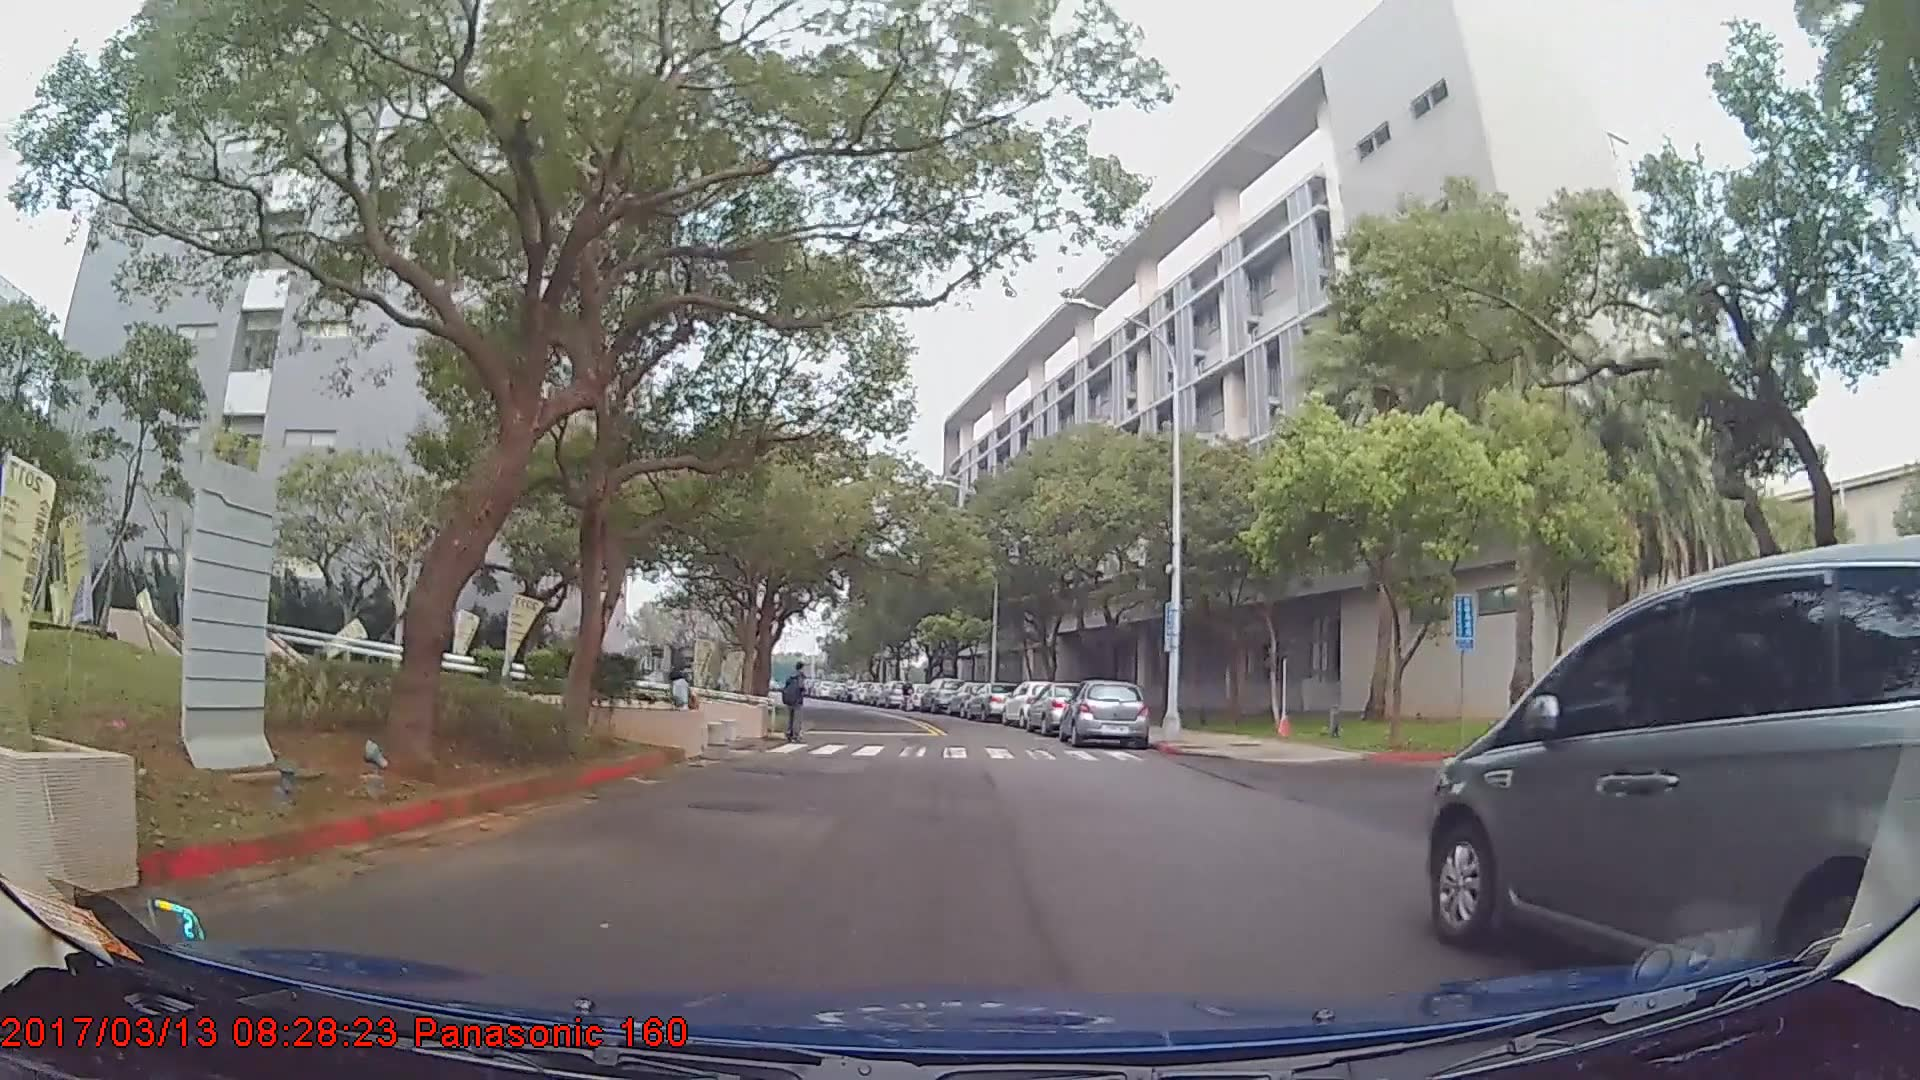pedestrian: (660, 670, 701, 754), (782, 661, 813, 749)
vehicle: (1426, 540, 1920, 985), (1061, 679, 1147, 750), (1021, 680, 1103, 734), (997, 678, 1066, 732), (964, 682, 1013, 720), (920, 677, 964, 714)
